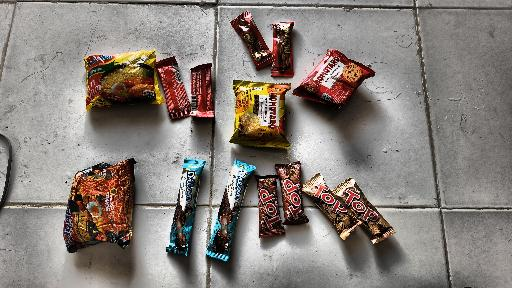chocho: (159, 49, 226, 124)
dilan: (165, 141, 238, 276)
indomie: (73, 37, 163, 121)
mie sedap: (56, 151, 130, 267)
momotaro: (297, 37, 395, 115), (229, 73, 303, 139)
top: (253, 167, 405, 239)
